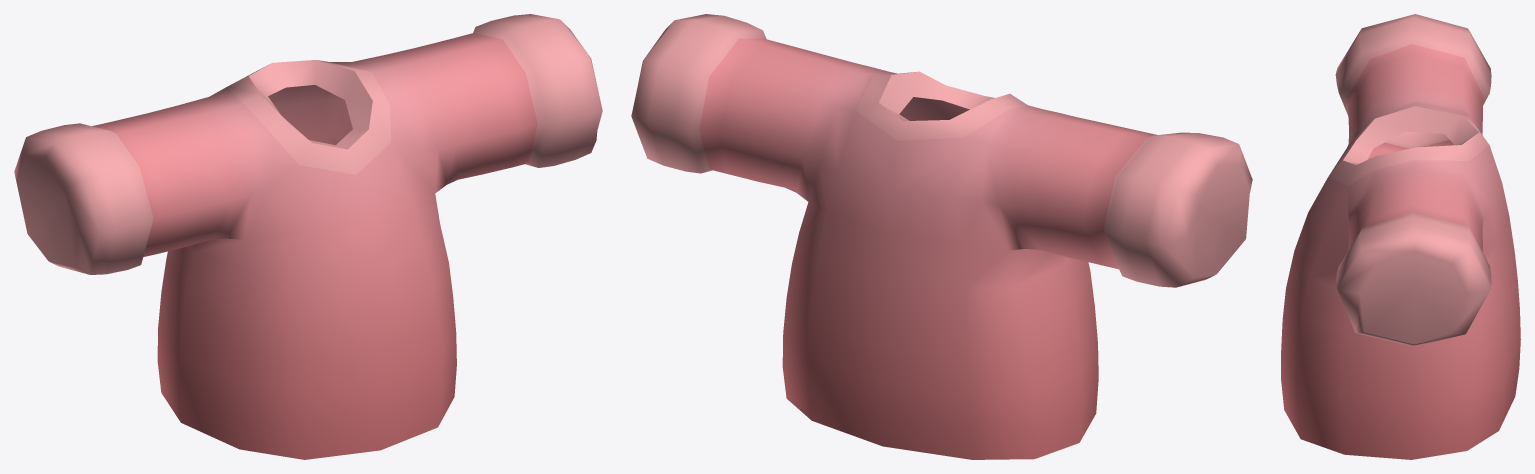
The model's file is Top_13.fbx.
3 renders of one model, left to right at view 1: azimuth 30°, elevation 25°; view 2: azimuth 150°, elevation 25°; view 3: azimuth 270°, elevation 25°, orthographic. The views are drawn at different scales.
Parts seen in each view (by area): view 1: Top_13; view 2: Top_13; view 3: Top_13.
Boxes of the visible parts, x1=… form: Top_13: x1=14, y1=14, x2=602, y2=459; Top_13: x1=631, y1=14, x2=1252, y2=459; Top_13: x1=1281, y1=14, x2=1520, y2=459.
Size of the model in its own units: 83.07 by 48.32 by 36.49.
